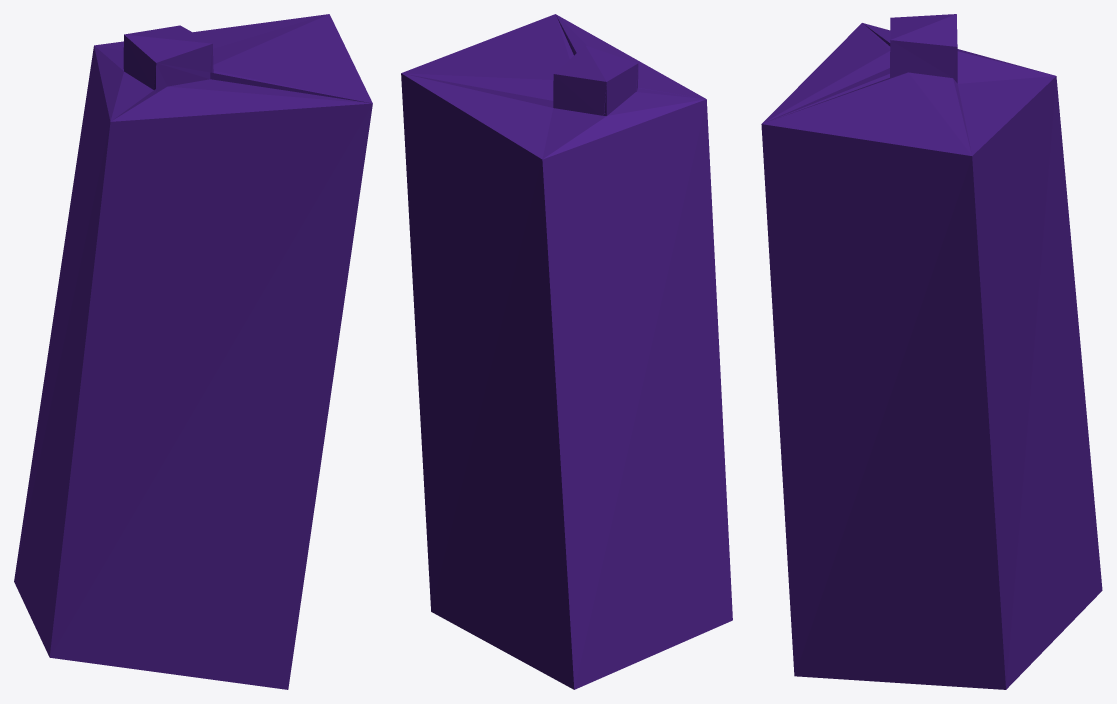
The picture shows the model from 3 angles, left to right: view 1: azimuth 30°, elevation 25°; view 2: azimuth 150°, elevation 25°; view 3: azimuth 270°, elevation 25°; orthographic projection. The views are drawn at different scales.
Visible parts, largest first — view 1: 446_Cube.1807; view 2: 446_Cube.1807; view 3: 446_Cube.1807.
Boxes of the visible parts, x1,y1,x2,y2 form: 446_Cube.1807: [14, 14, 372, 689]; 446_Cube.1807: [401, 14, 732, 689]; 446_Cube.1807: [761, 14, 1102, 689].
Bounding box in the file's own units: 7.29 × 13.53 × 6.72.
